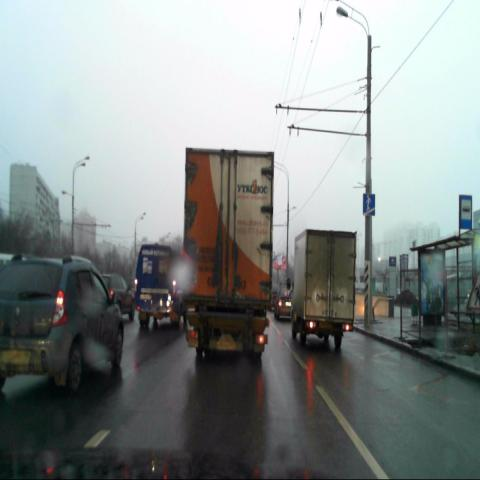5_16: (458, 194, 472, 227)
6_6: (364, 194, 376, 216)
